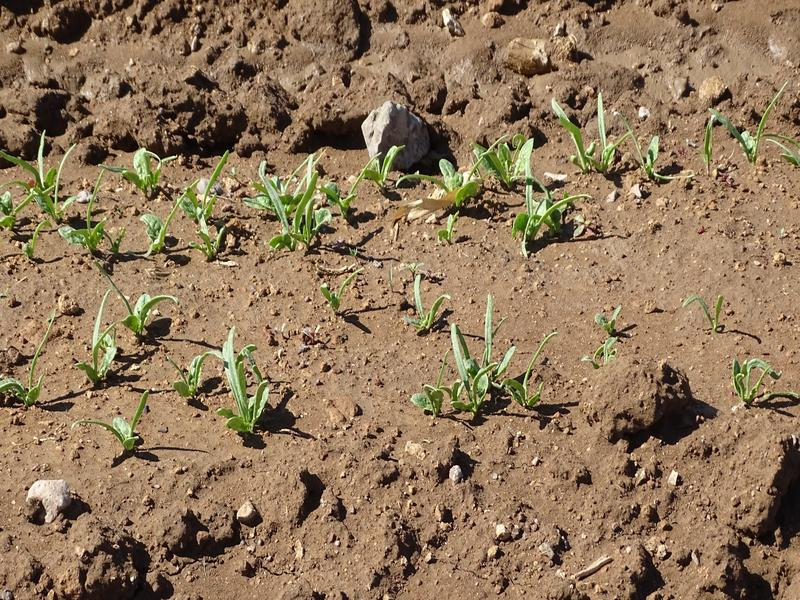Espinaca: (15, 139, 569, 253), (71, 292, 279, 447), (554, 94, 796, 174), (403, 287, 554, 414), (721, 347, 781, 406)
